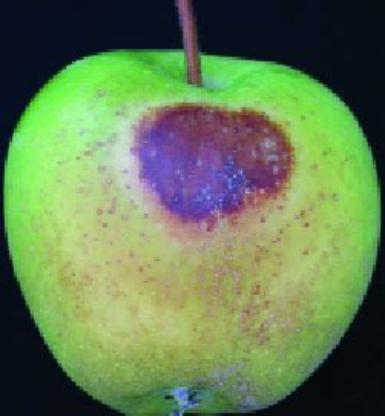defect: (80, 84, 338, 284)
